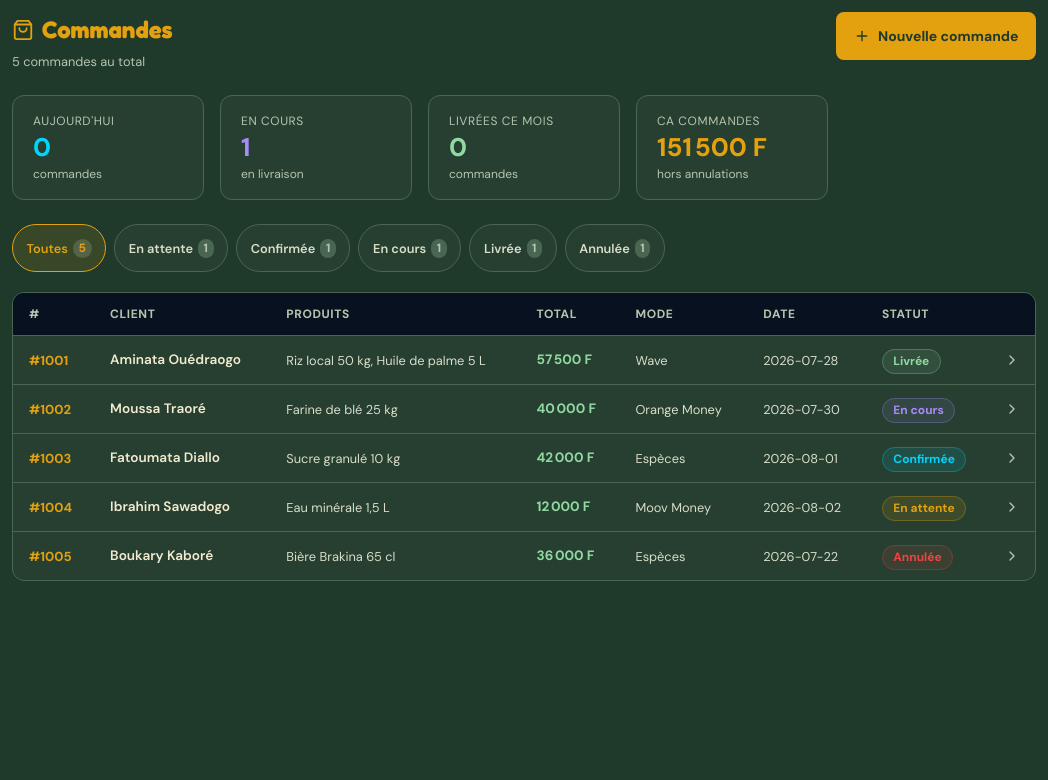
CommandesPage › 16 — filtre "Confirmée" : affiche Fatoumata, masque Ibrahim
Step 1. Click the button "Confirmée 1" → (293, 248), box [236,224,350,272]
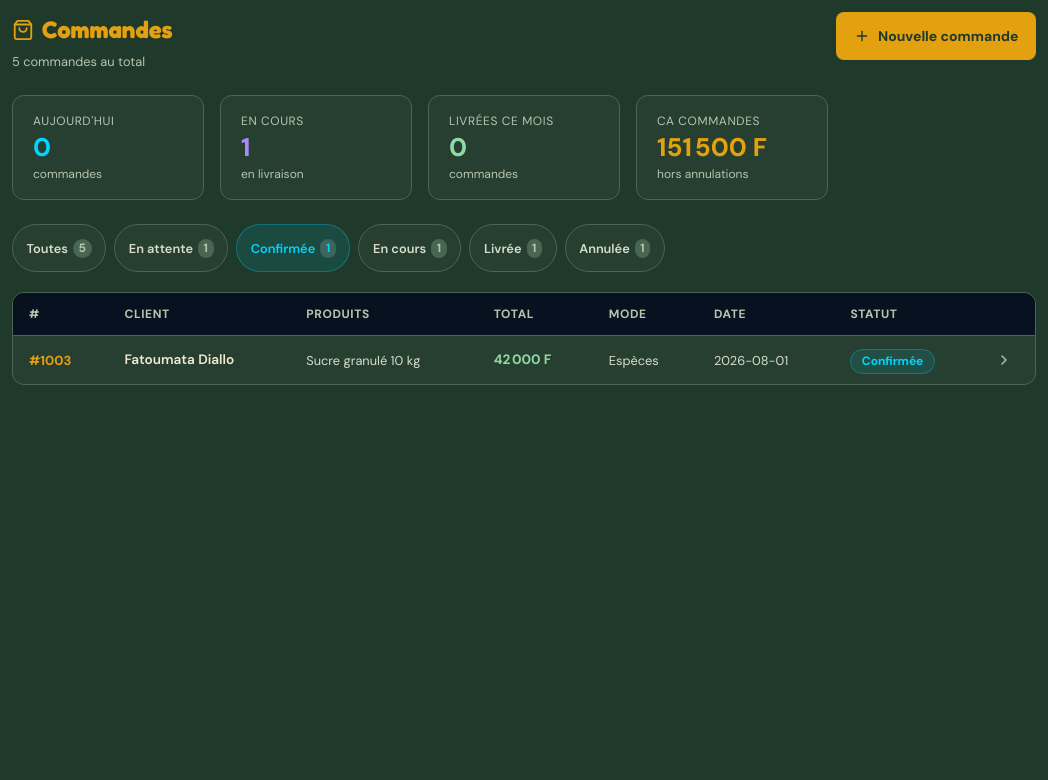
Expected: the text "Fatoumata Diallo" is shown, [108,336,290,384]
Expected: the text "Ibrahim Sawadogo" is gone
